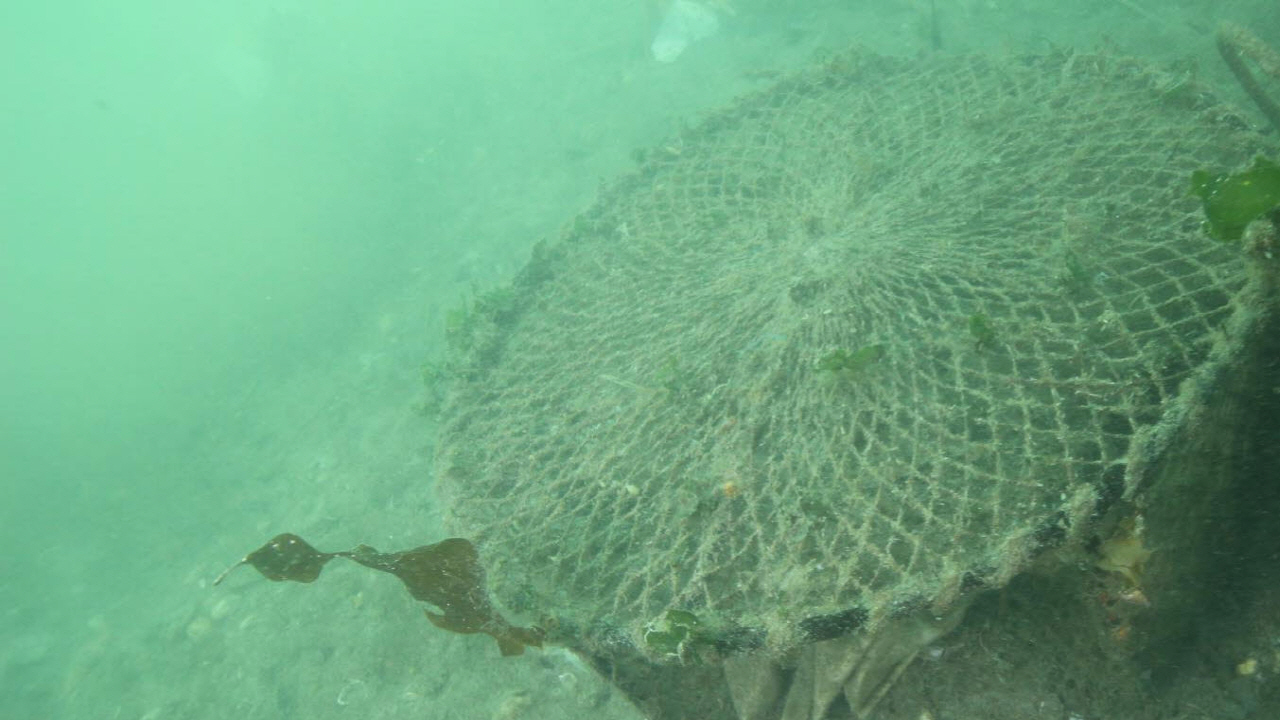circular fish trap: (432, 41, 1279, 635)
